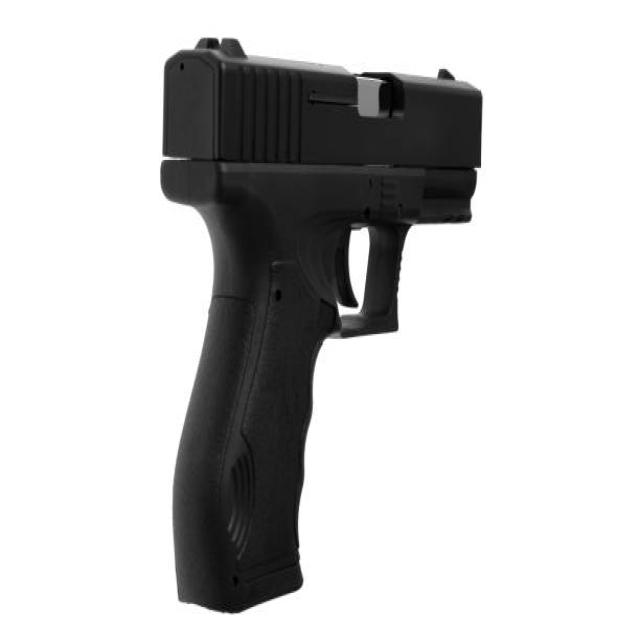pistol: (149, 29, 496, 625)
